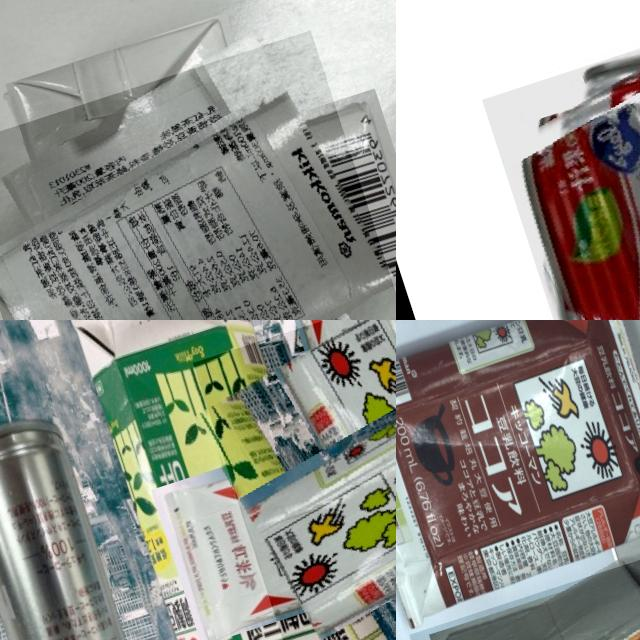Aluminium Foil: (0, 29, 396, 320), (64, 320, 396, 640), (396, 320, 640, 639), (191, 320, 396, 640), (407, 540, 640, 640)
Can: (481, 0, 640, 320), (0, 408, 193, 640)
